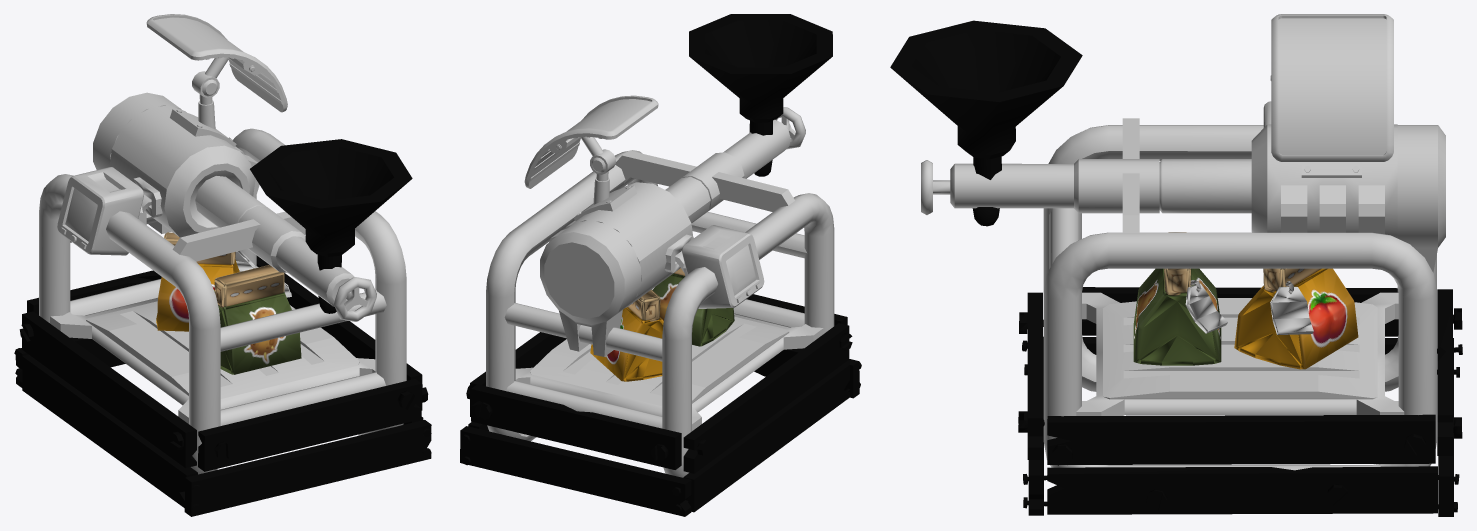
Rendered from SeedPress.fbx.
3 renders of one model, left to right at view 1: azimuth 30°, elevation 25°; view 2: azimuth 150°, elevation 25°; view 3: azimuth 270°, elevation 25°, orthographic. The views are drawn at different scales.
Visible parts, largest first — view 1: workbench; view 2: workbench; view 3: workbench.
Part boxes in pixels (x1,y1,x2,y2): workbench: [14, 14, 431, 516]; workbench: [460, 14, 861, 516]; workbench: [890, 14, 1462, 516].
Size of the model in its own units: 4.22 by 5.82 by 7.08.
